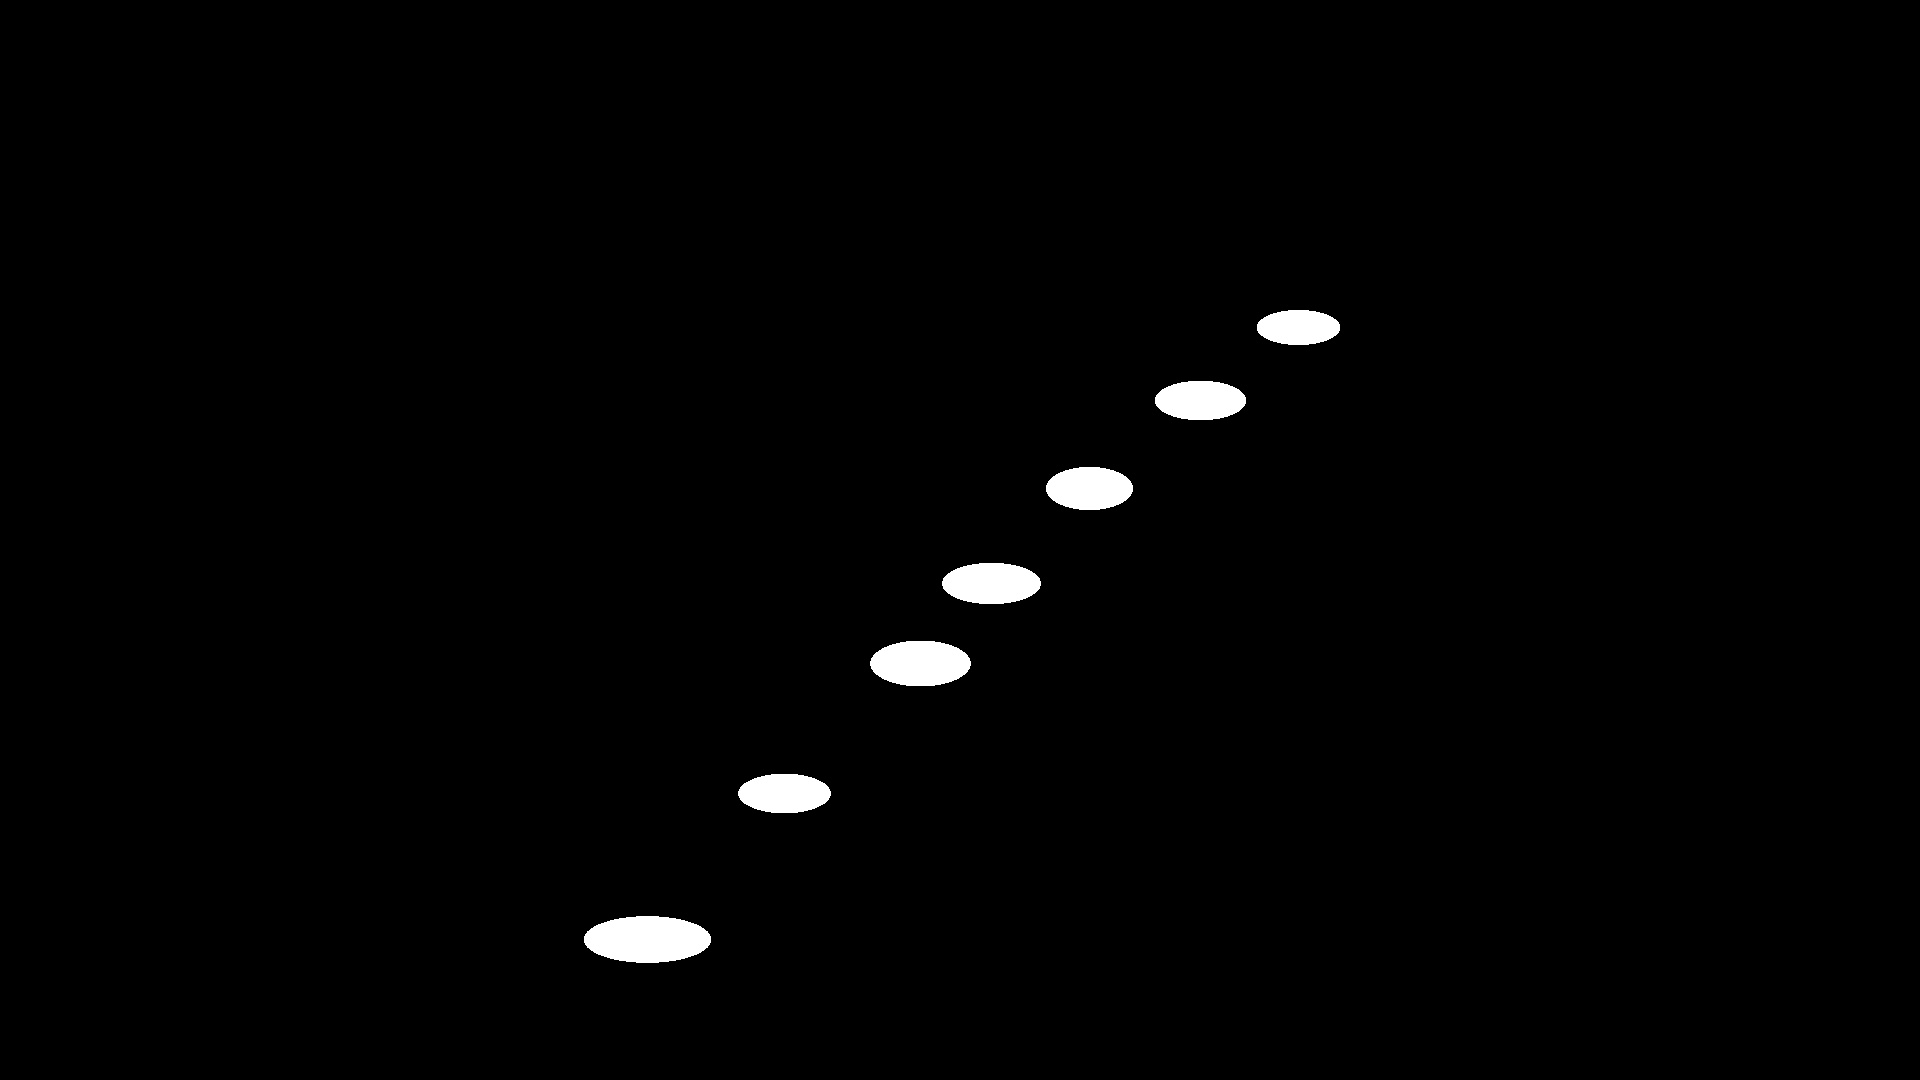swimmer: (576, 913, 717, 965), (864, 638, 976, 688), (936, 560, 1046, 607), (1040, 464, 1138, 512), (733, 771, 836, 815), (1149, 378, 1251, 422), (1251, 309, 1345, 347)
